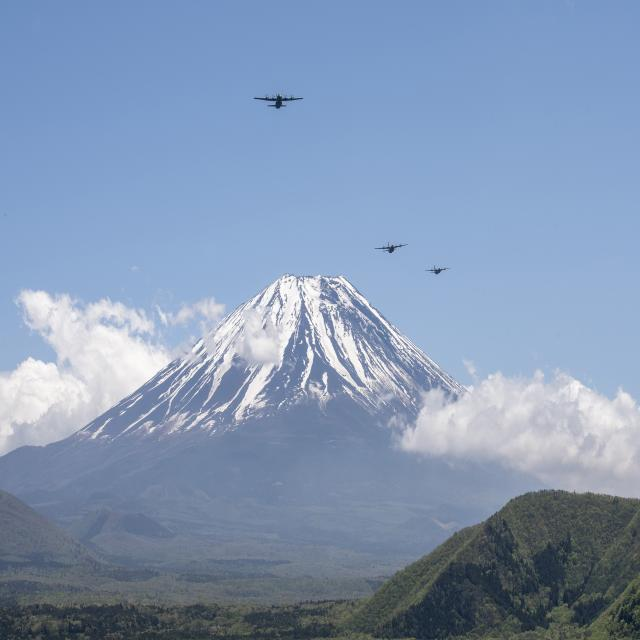MIL_Plane: (254, 93, 303, 109), (54, 238, 88, 250), (105, 265, 131, 274)
